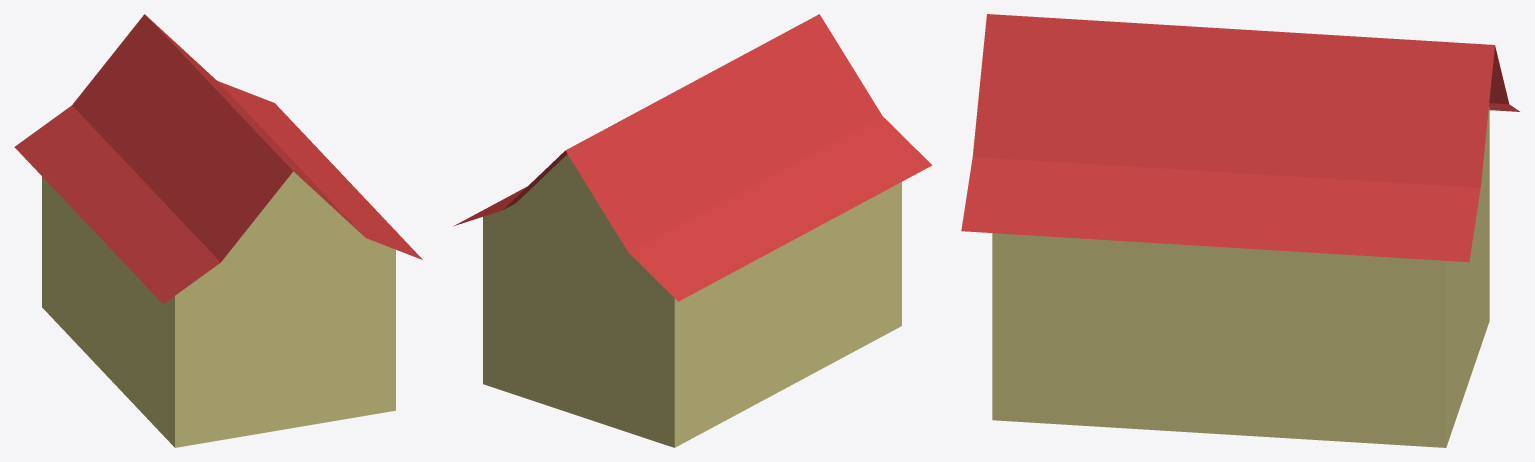
The picture shows the model from 3 angles, left to right: view 1: azimuth 30°, elevation 25°; view 2: azimuth 150°, elevation 25°; view 3: azimuth 270°, elevation 25°; orthographic projection. The views are drawn at different scales.
Size of the model in its own units: 15.73 by 20.52 by 13.79.
